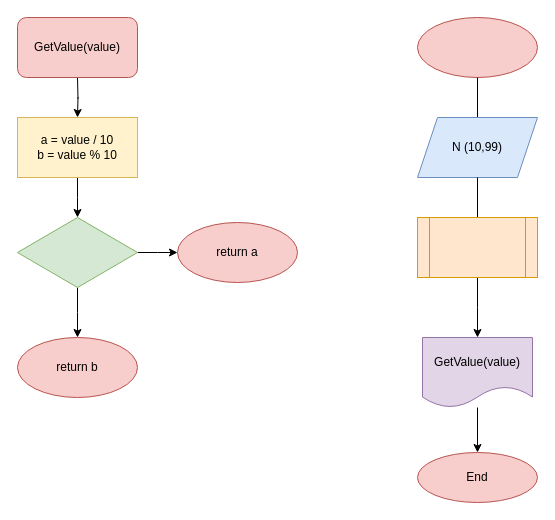
The diagram is 555 pixels wide and 520 high, and some of its shapes have lost their labels. The box of each missing label's shape, as (x1, y1, x2, y2) in pixels:
a > b ?: (16, 216, 138, 288)
Begin: (416, 16, 538, 78)
GetValue: (416, 216, 538, 278)
